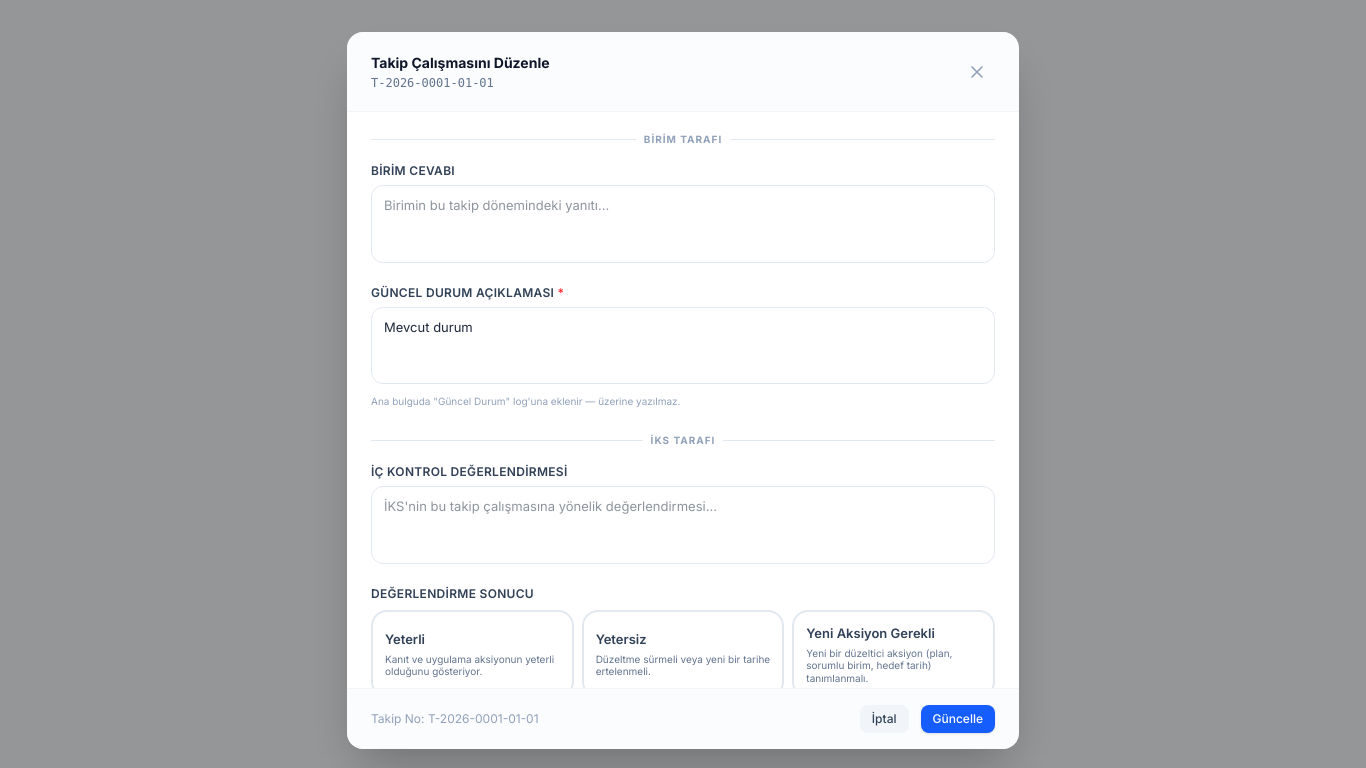
Test case: Bulgu takip değerlendirme formu › Yeni Aksiyon Gerekli sonucunda aksiyon planı, sorumlu birim ve hedef tarih ister
Click the button "Yeni Aksiyon Gerekli" at x=894, y=654, box [792,610,995,698]
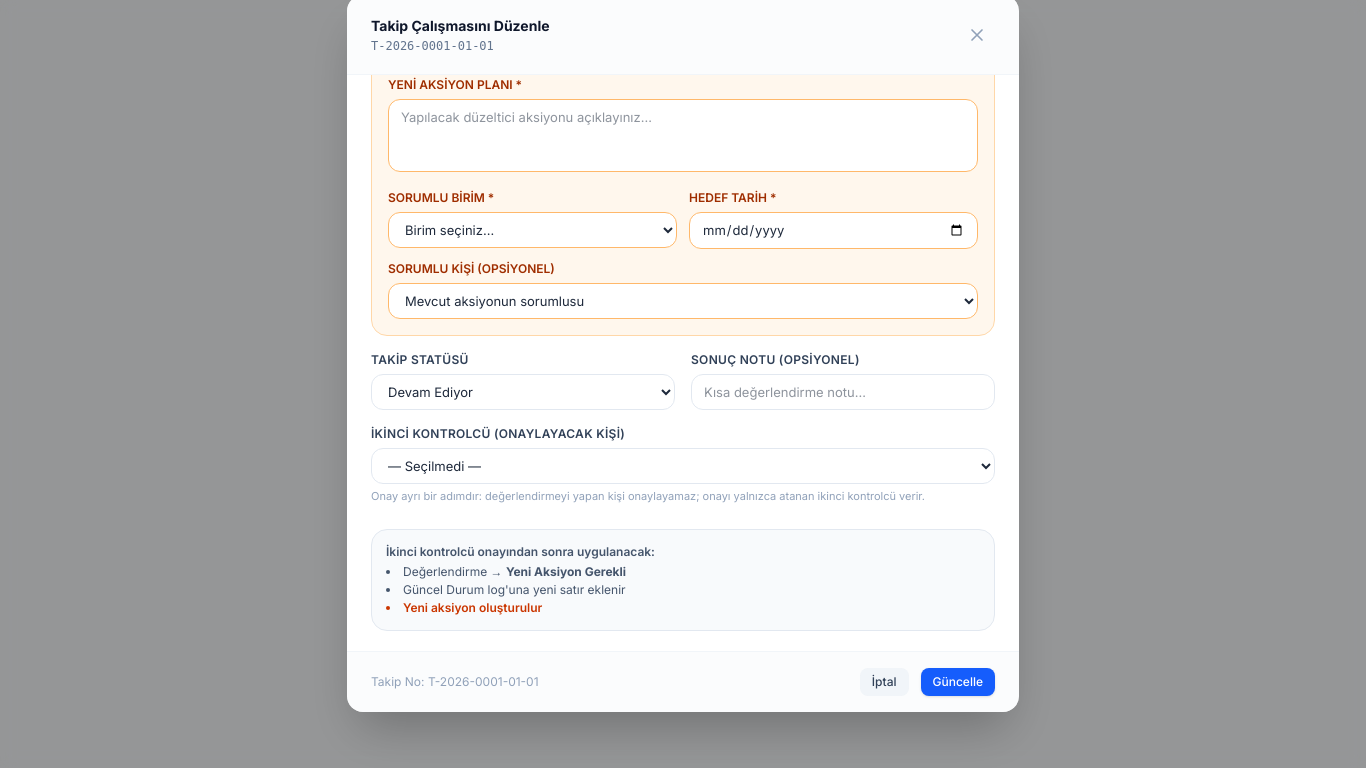
Expected: the text box labelled "Yeni Aksiyon Planı *" is shown, [388,99,978,172]
Expected: the dropdown labelled "Sorumlu Birim *" is shown, [388,212,677,248]
Expected: the date field labelled "Hedef Tarih *" is shown, [689,212,978,249]
